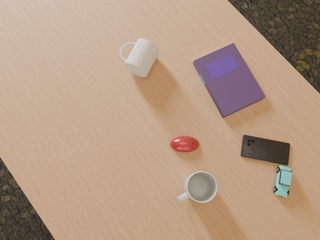book: (193, 43, 266, 118)
cup: (120, 39, 159, 77), (177, 171, 217, 203)
mouse: (170, 136, 199, 152)
phone: (241, 135, 290, 165)
toy_car: (273, 166, 292, 197)
